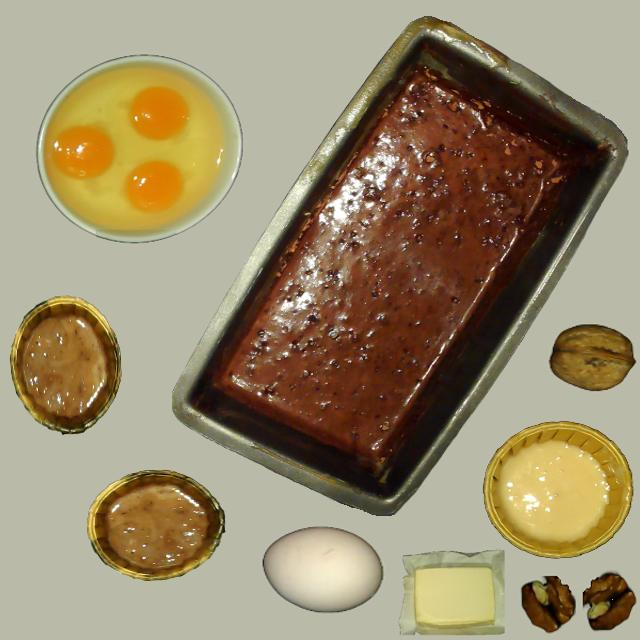Egg: (52, 127, 114, 180), (129, 87, 189, 141), (125, 161, 183, 211)
Walnut: (545, 306, 639, 400)
